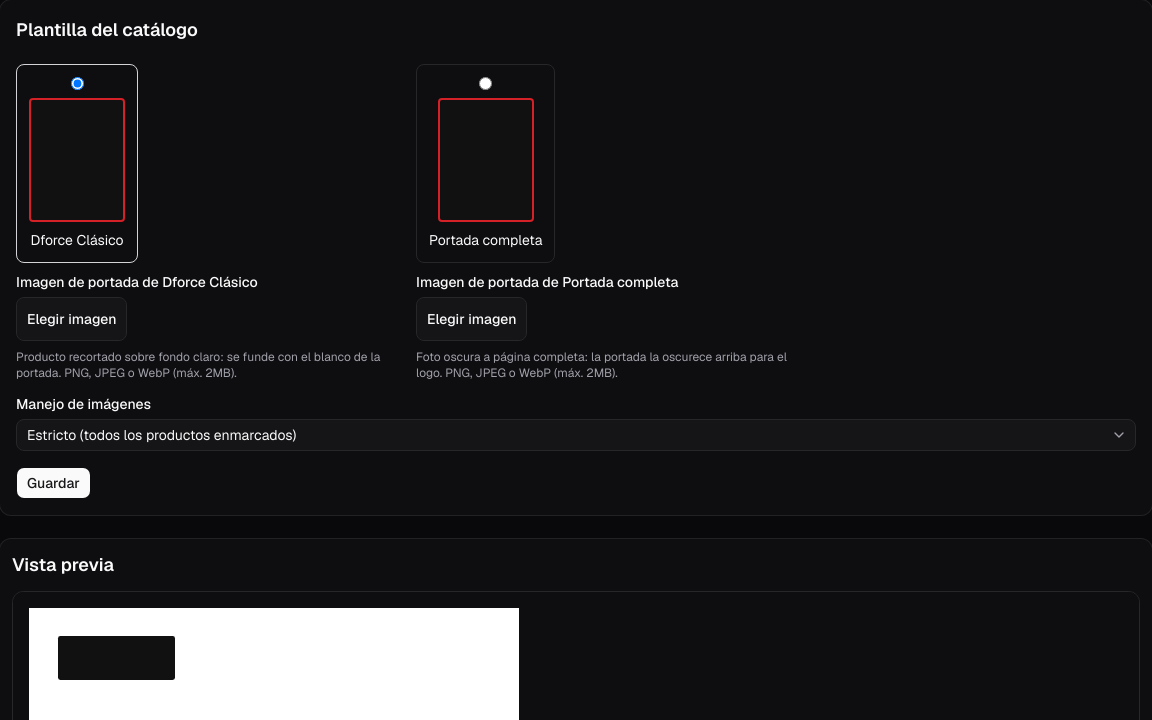
Test: TemplateConfigForm — the image-handling trigger shows the Spanish label › shows adaptive as Adaptativo once chosen
Click the dropdown named "Manejo de imágenes".
click(162, 435)  # box [16, 419, 1136, 451]
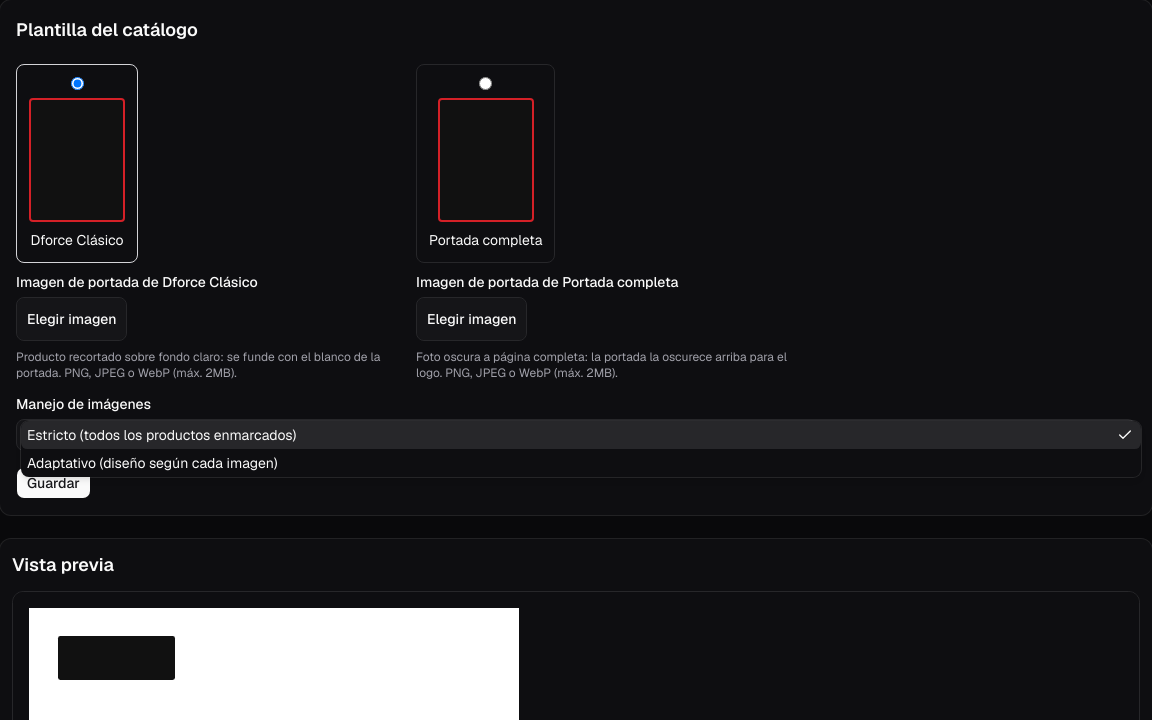
Click the option "Adaptativo (diseño según cada imagen)".
click(152, 463)  # box [27, 454, 278, 472]
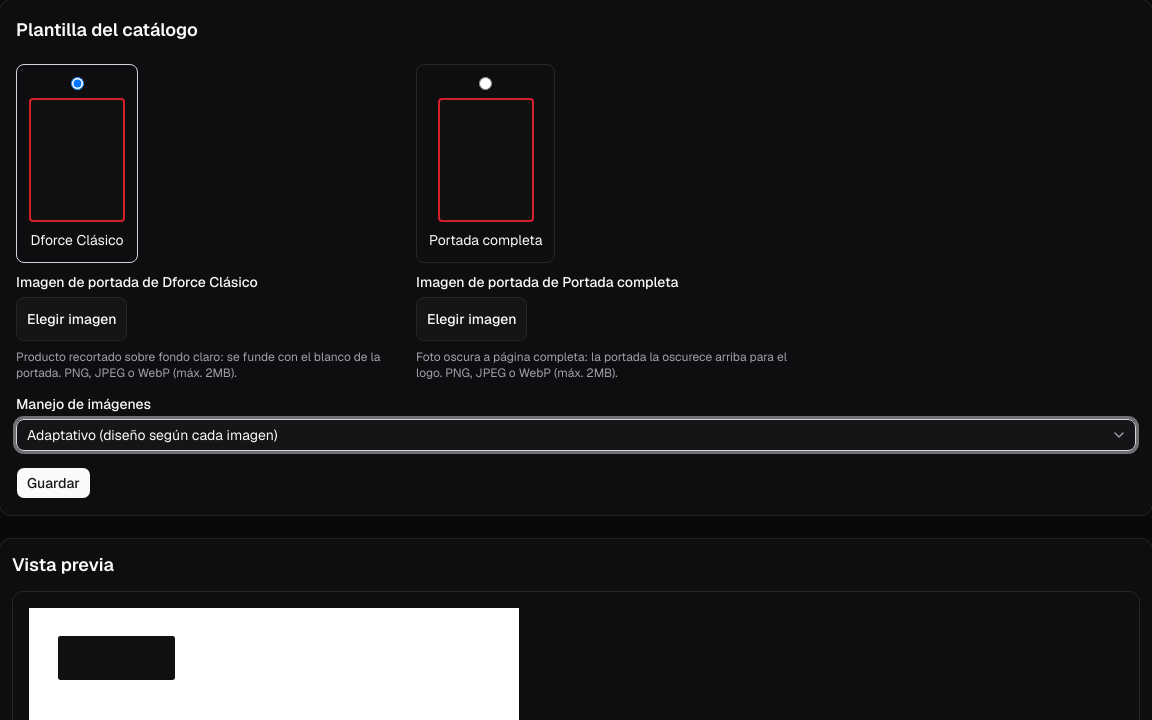
Result: the text "Adaptativo (diseño según cada imagen)" is shown at [27, 426, 278, 444]
